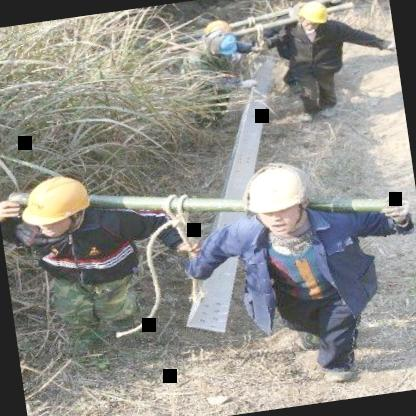helmet: (238, 158, 322, 237), (14, 171, 101, 241), (200, 29, 243, 58), (296, 0, 329, 32), (200, 16, 234, 34)
